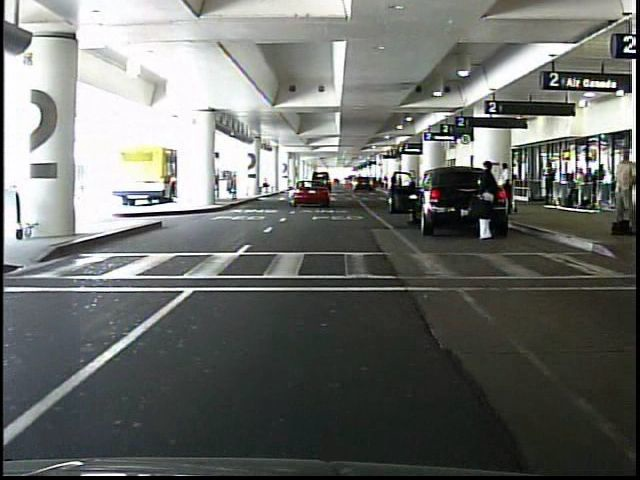person: (474, 162, 500, 244), (494, 162, 515, 217), (542, 162, 555, 205)
